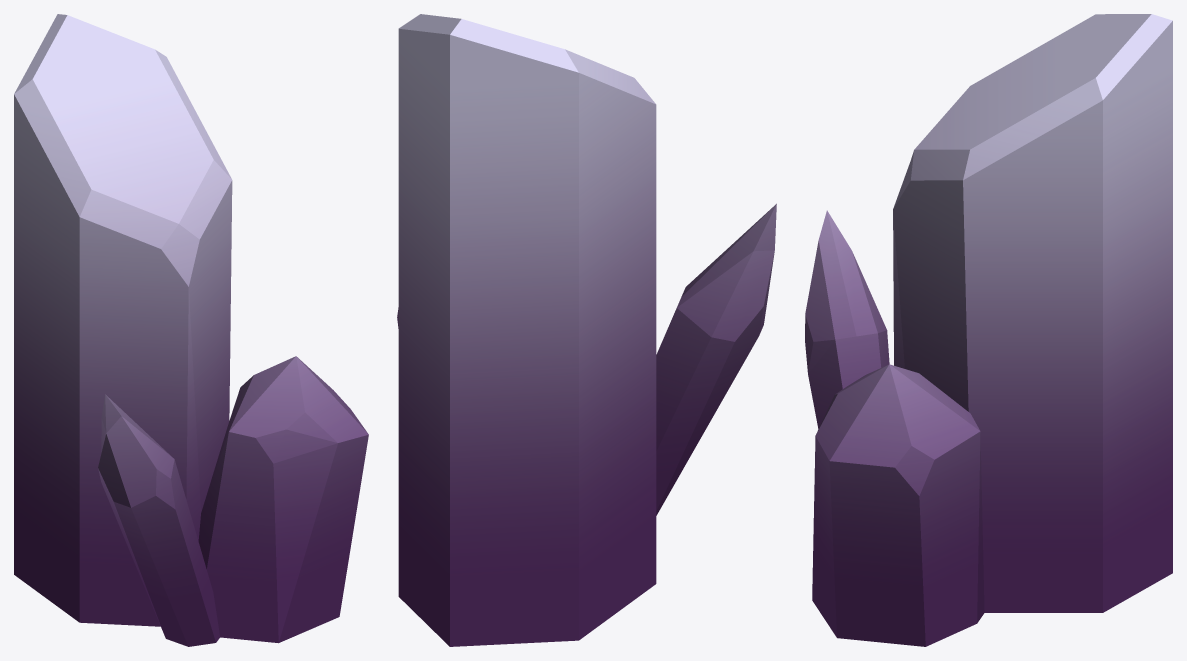
The model's file is Crystal_5.fbx.
The picture shows the model from 3 angles, left to right: view 1: azimuth 30°, elevation 25°; view 2: azimuth 150°, elevation 25°; view 3: azimuth 270°, elevation 25°; orthographic projection. The views are drawn at different scales.
Parts seen in each view (by area): view 1: Crystal_03; view 2: Crystal_03; view 3: Crystal_03.
Boxes of the visible parts, bbox=[...] form: Crystal_03: bbox=[14, 14, 368, 646]; Crystal_03: bbox=[397, 14, 776, 646]; Crystal_03: bbox=[805, 14, 1172, 646].
Size of the model in its own units: 21.65 by 39 by 23.25.
